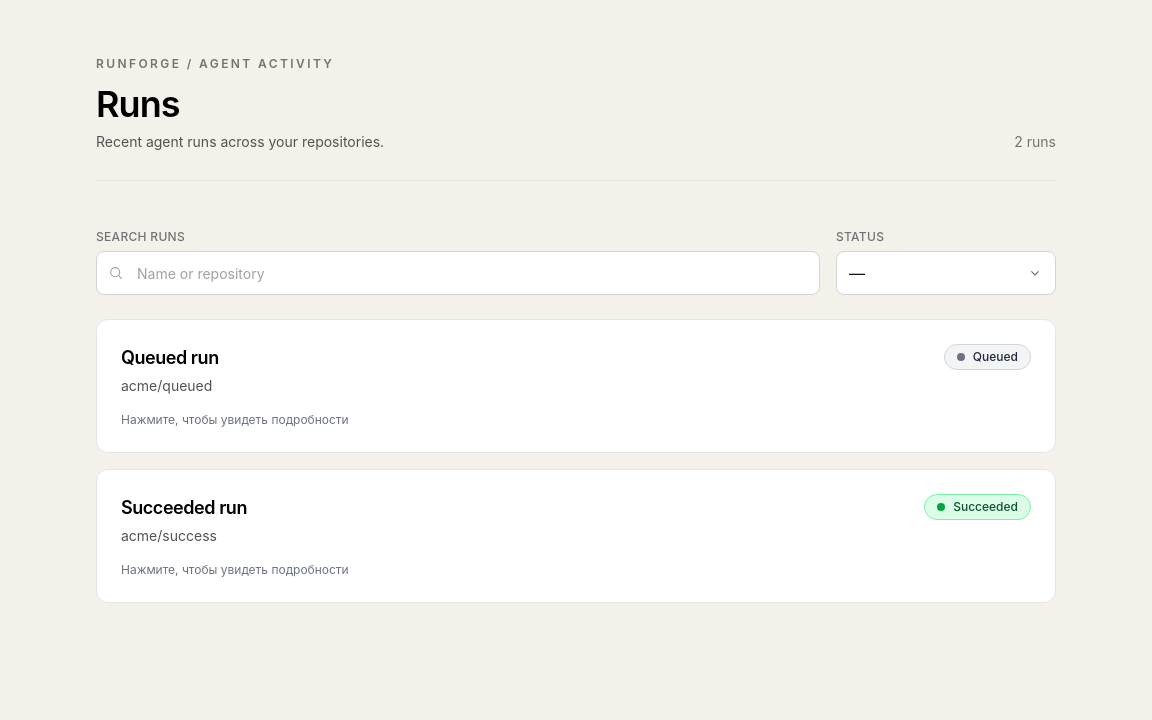
Scenario: Run card details › opens run details and displays logs
This screenshot has width=1152, height=720.
Check: the heading "Logs" is not shown
Click the heading "Queued run" at (170, 358), box [121,344,219,372]
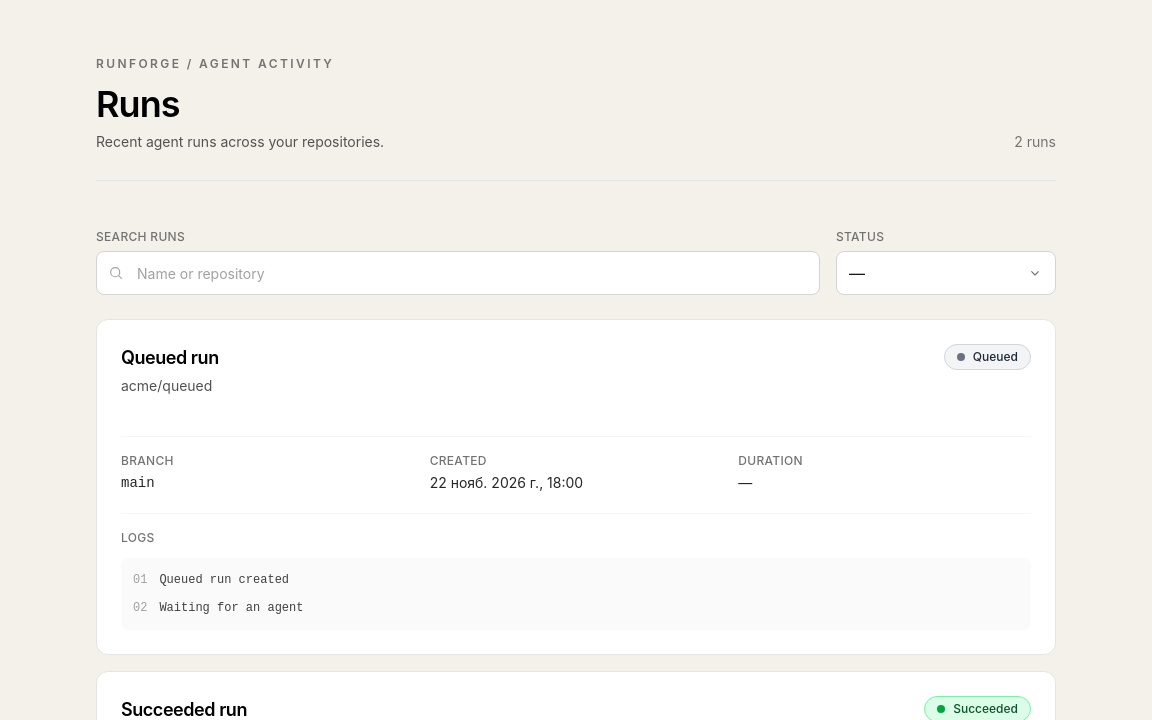
Check: the heading "Logs" is shown, box [121,530,155,545]
Check: the text "Queued run created" is shown, box [159,570,289,590]
Check: the text "Waiting for an agent" is shown, box [159,598,303,618]
